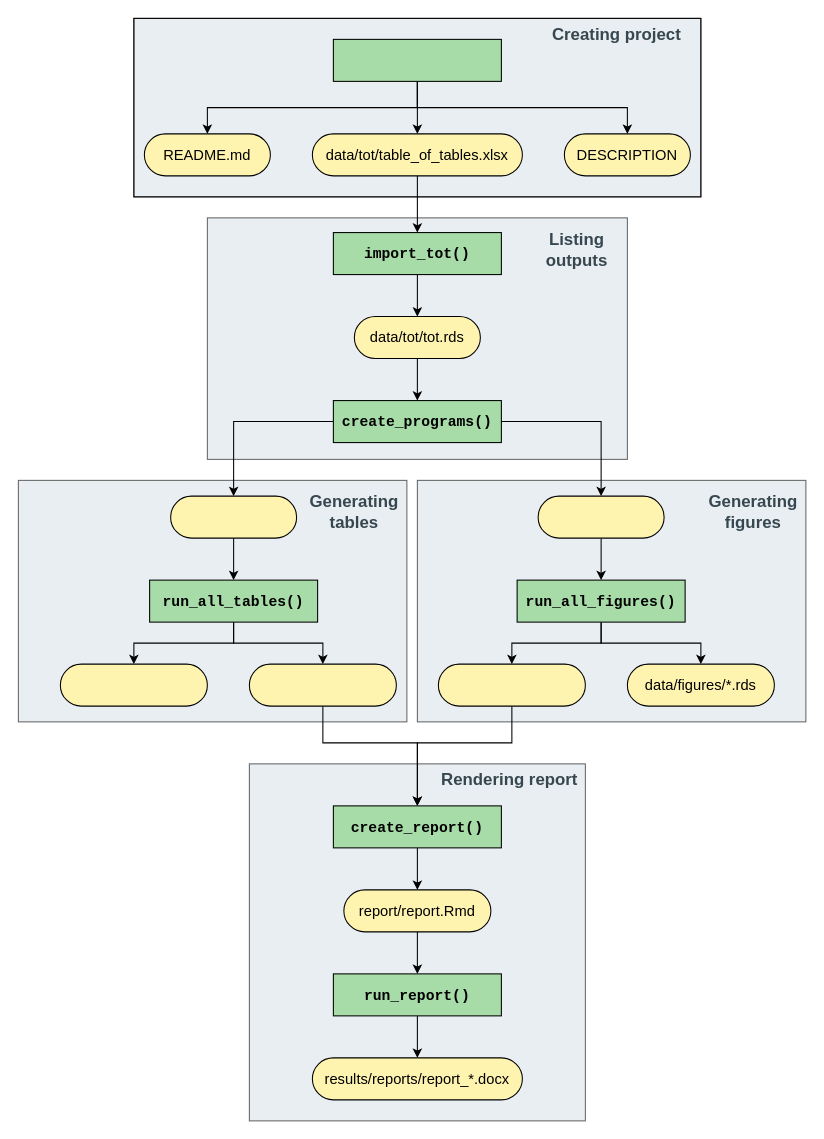
Image size: 824x1139. Some labels were removed from this diagram. Here are the shapes that lost their labels. From the top down, the centre of each, then its label:
At pixel 416 59: "create_project()".
At pixel 233 516: "R/tables/*.R".
At pixel 600 516: "R/figures/*.R".
At pixel 133 684: "results/tables/*.docx".
At pixel 322 684: "data/tables/*.rds".
At pixel 511 684: "results/figures/*.png".
